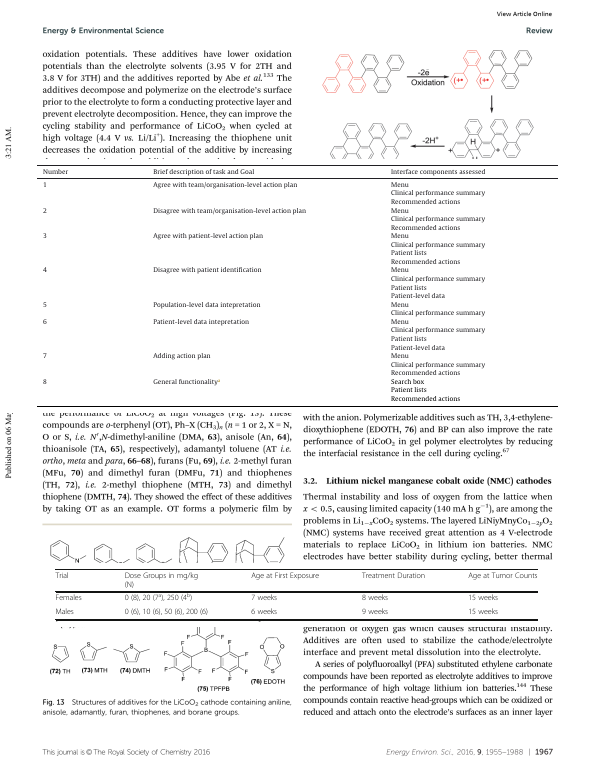borderless: (36, 164, 558, 406), (54, 568, 537, 619)
cell: (389, 233, 485, 267), (389, 267, 485, 301), (389, 319, 485, 353), (389, 207, 485, 233), (389, 182, 485, 207), (389, 353, 485, 378), (389, 379, 461, 404), (389, 301, 485, 318), (152, 207, 306, 216), (124, 572, 199, 590), (152, 182, 298, 190), (152, 267, 262, 276), (152, 301, 261, 310), (152, 168, 255, 177), (152, 233, 263, 241), (389, 168, 486, 177), (124, 608, 209, 618), (124, 592, 193, 604), (152, 319, 249, 327), (467, 572, 538, 581), (250, 572, 320, 581), (152, 378, 221, 387), (361, 572, 426, 581), (152, 353, 211, 361), (467, 594, 499, 604), (467, 608, 499, 618), (250, 594, 278, 604), (361, 594, 389, 604), (250, 608, 278, 618), (361, 608, 389, 618), (55, 594, 82, 604), (41, 168, 69, 177), (54, 608, 75, 618), (55, 572, 69, 581), (41, 207, 47, 216), (41, 267, 47, 276), (41, 301, 47, 310), (41, 182, 47, 190), (41, 233, 47, 241), (41, 319, 47, 327), (41, 353, 47, 361), (41, 379, 47, 387)
